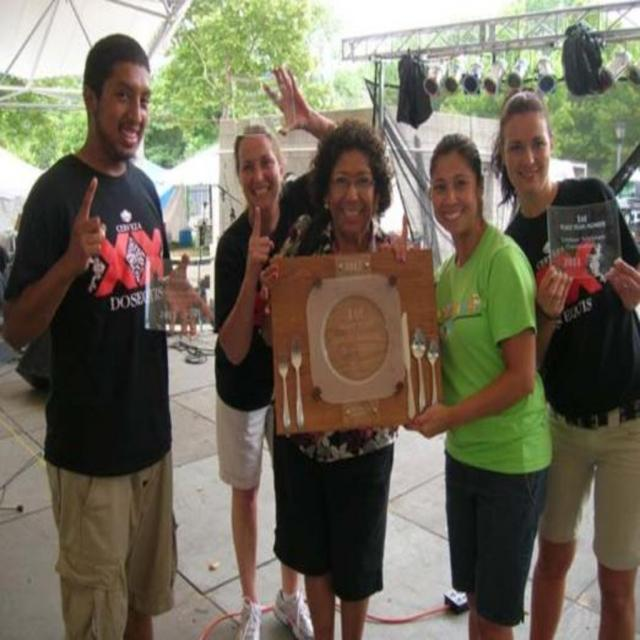nomask: (96, 40, 150, 156), (328, 145, 374, 238), (501, 110, 550, 193), (431, 153, 475, 241), (239, 130, 280, 213)
